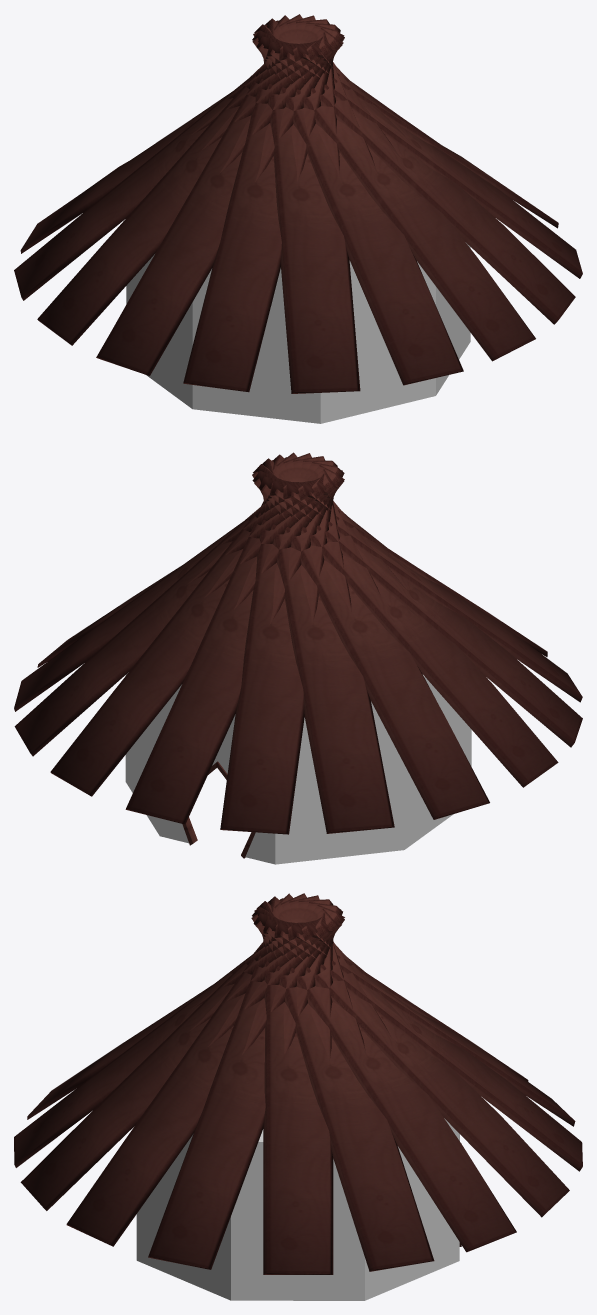
The model's file is vilg_house.fbx.
3 renders of one model, top to bottom at view 1: azimuth 30°, elevation 25°; view 2: azimuth 150°, elevation 25°; view 3: azimuth 270°, elevation 25°, orthographic.
Visible parts, largest first — view 1: Cylinder; view 2: Cylinder; view 3: Cylinder.
Boxes of the visible parts, x1,y1,x2,y2 form: Cylinder: (14,14,582,423); Cylinder: (14,452,582,864); Cylinder: (14,893,582,1300).
Bounding box in the file's own units: 724 × 455 × 723.
